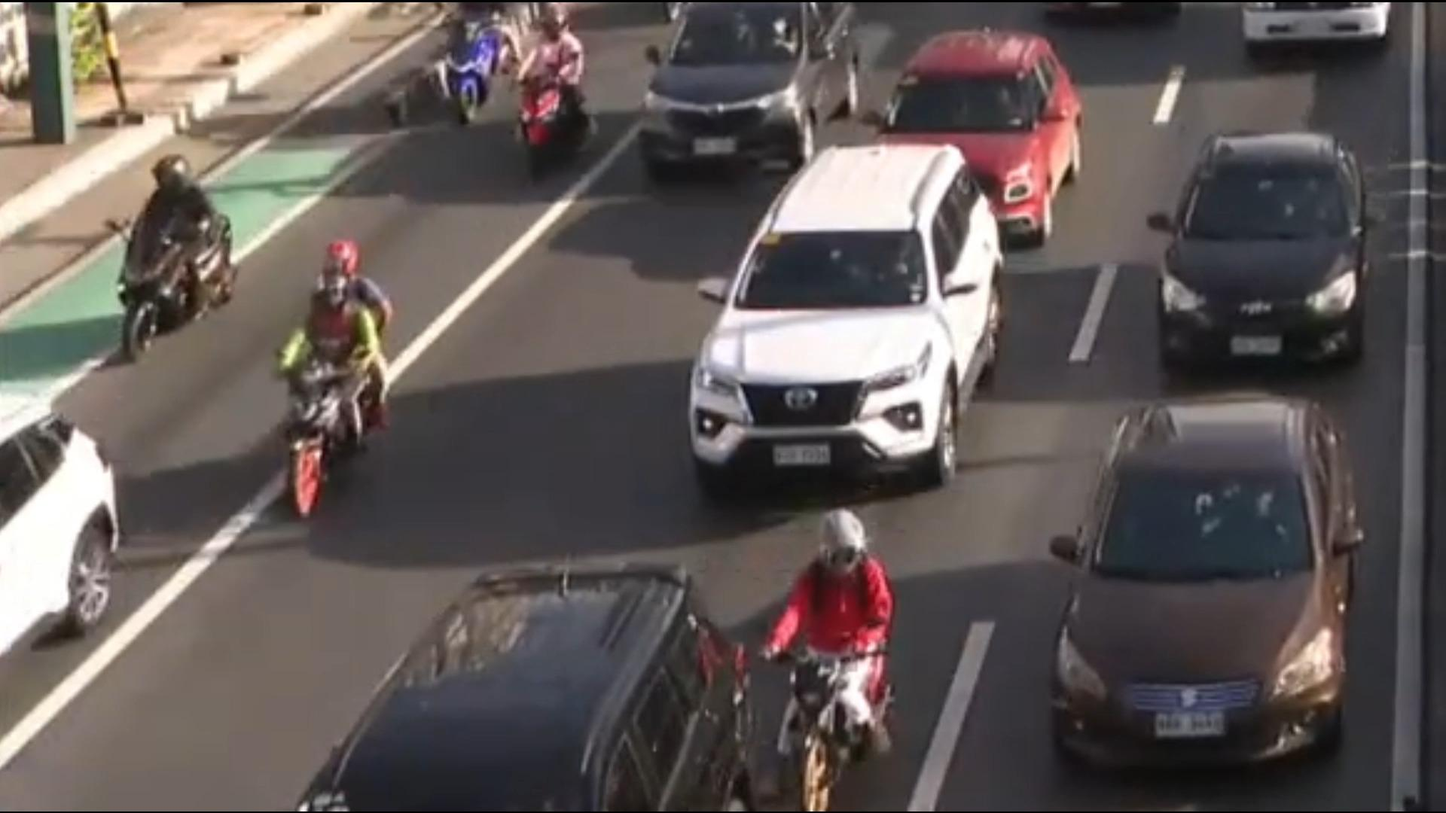Motorcycle: (245, 232, 450, 554), (741, 493, 927, 813), (60, 134, 260, 375), (504, 0, 612, 208), (423, 0, 513, 126)
SUV: (631, 0, 872, 200)
Sedan: (1038, 386, 1396, 773), (1101, 119, 1407, 397)
Truck: (629, 138, 1045, 528), (248, 540, 774, 813), (854, 17, 1106, 262)
